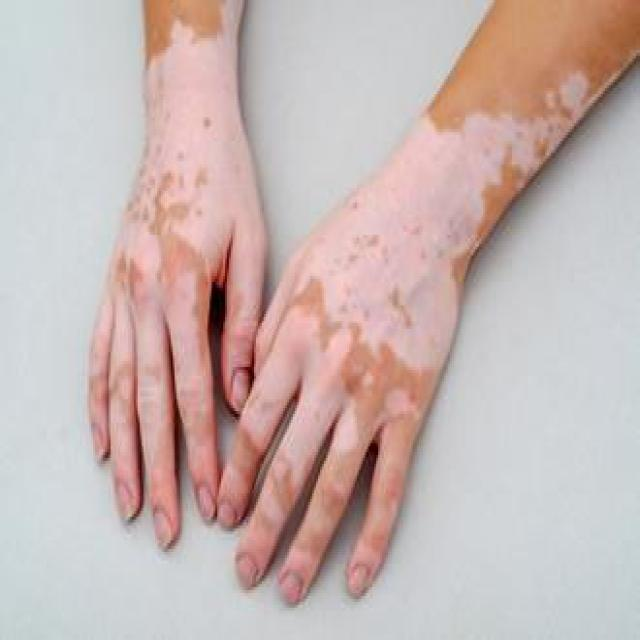vitiligo: (264, 2, 607, 550), (93, 5, 240, 378)
